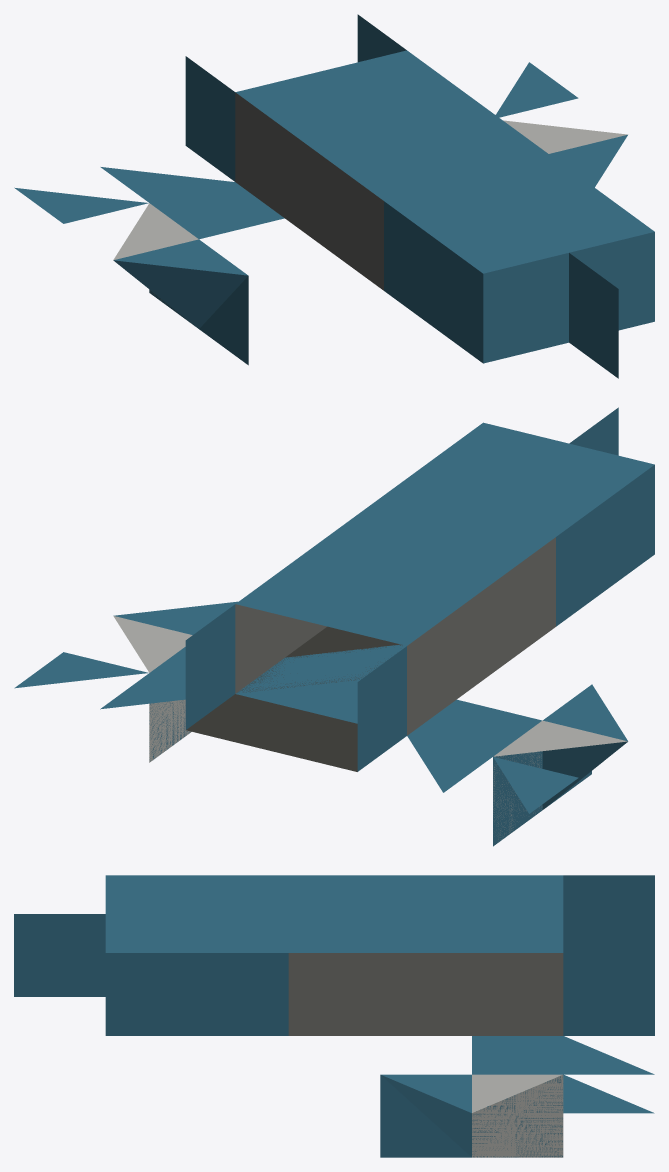
Rendered from staging_aircraft_fore_silhouette.obj.
3 renders of one model, top to bottom at view 1: azimuth 30°, elevation 25°; view 2: azimuth 150°, elevation 25°; view 3: azimuth 270°, elevation 25°, orthographic. The views are drawn at different scales.
Size of the model in its own units: 12.98 by 4.33 by 15.14.
